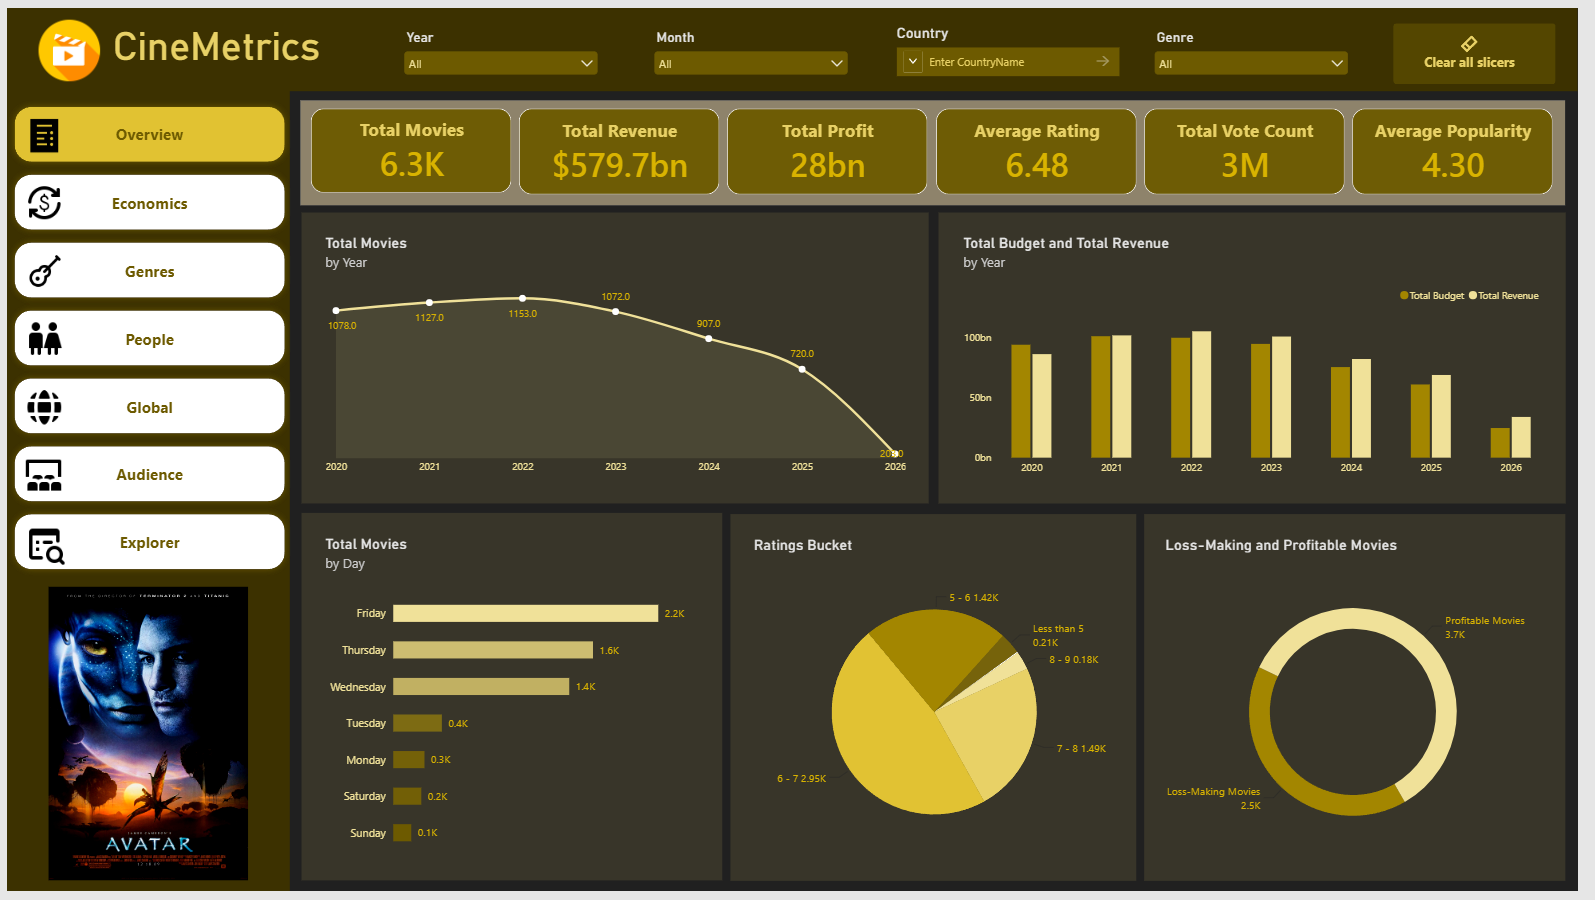

What the dashboard file says about the page in this screenshot:
{"tool":"powerbi","page":{"name":"Overview","canvas":[1920,1080],"ordinal":1},"visuals":[{"type":"group","id":"g1","title":"header","box":[0,0,1919.7,101.7],"z":0},{"type":"shape","box":[0,0,1919.7,101.7],"z":0,"group":"g1"},{"type":"shape","box":[0,101.3,346,978.8],"z":0,"group":"g2"},{"type":"shape","box":[359.3,112.6,1546,128.7],"z":0,"group":"g3"},{"type":"shape","box":[1138.5,250.2,766.8,355.7],"z":0,"group":"g8"},{"type":"shape","box":[359.4,250.4,766.6,355.6],"z":0,"group":"g7"},{"type":"shape","box":[359.4,617.5,514.2,449.2],"z":0,"group":"g6"},{"type":"shape","box":[884.3,618.4,496,448.6],"z":0,"group":"g5"},{"type":"shape","box":[1390.5,618.4,514.7,448.6],"z":0,"group":"g4"},{"type":"textbox","title":"CineMetrics","box":[130.3,19.1,274.9,62],"z":1000,"group":"g1"},{"type":"group","id":"g2","title":"side panel","box":[0,101.3,347.9,978.8],"z":1000},{"type":"pageNavigator","box":[1.9,112.8,346,585],"z":1000,"group":"g2"},{"type":"cardVisual","fields":{"Data":["measure_KPI.Total Movies"]},"box":[372.2,122.8,245.6,103.8],"z":1000,"group":"g3"},{"type":"clusteredColumnChart","fields":{"Category":["dim dim_date.Year"],"Y":["measure_KPI.Total Budget","measure_KPI.Total Revenue"]},"box":[1152.8,262.7,740,328.9],"z":1000,"group":"g8"},{"type":"lineChart","fields":{"Category":["dim dim_date.FullDate.Variation.Date Hierarchy.Year","dim dim_date.FullDate.Variation.Date Hierarchy.Quarter","dim dim_date.FullDate.Variation.Date Hierarchy.Month","dim dim_date.FullDate.Variation.Date Hierarchy.Day"],"Y":["measure_KPI.Total Movies"]},"box":[372.8,263.8,741.6,328.8],"z":1000,"group":"g7"},{"type":"barChart","fields":{"Category":["dim dim_date.DayName"],"Y":["measure_KPI.Total Movies"]},"box":[371.9,630,489.2,424.2],"z":1000,"group":"g6"},{"type":"pieChart","fields":{"Category":["fact fact_movie.Ratings Group (groups)"],"Y":["CountNonNull(fact fact_movie.Ratings Group (groups))"]},"box":[897.3,630.9,471.8,423.6],"z":1000,"group":"g5"},{"type":"donutChart","fields":{"Y":["measure_KPI.Loss-Making Movies","measure_KPI.Profitable Movies"]},"box":[1400.8,631.4,489.7,423.6],"z":1000,"group":"g4"},{"type":"image","box":[38.3,13.8,75,75],"z":2000,"group":"g1"},{"type":"group","id":"g3","title":"kpis","box":[359.3,112.6,1546,128.7],"z":2000},{"type":"cardVisual","fields":{"Data":["measure_KPI.Total Profit"]},"box":[881.3,122.8,245.9,105.3],"z":2000,"group":"g3"},{"type":"image","box":[11.5,707.3,323.1,359.4],"z":2000,"group":"g2"},{"type":"actionButton","box":[1693.7,19.1,198.8,74.6],"z":3000,"group":"g1"},{"type":"cardVisual","fields":{"Data":["measure_KPI.Average Popularity"]},"box":[1645.4,122.8,245.9,105.3],"z":3000,"group":"g3"},{"type":"group","id":"g4","title":"donut","box":[1390.5,618.4,514.7,448.6],"z":3000},{"type":"image","box":[15,629.2,60.1,50.1],"z":3000,"group":"g2"},{"type":"slicer","fields":{"Values":["dim dim_date.MonthName"]},"box":[1382,13.3,278.7,86.8],"z":4000,"group":"g1"},{"type":"cardVisual","fields":{"Data":["measure_KPI.Total Vote Count"]},"box":[1390.7,122.8,245.9,105.3],"z":4000,"group":"g3"},{"type":"image","box":[15,546,60.1,50.1],"z":4000,"group":"g2"},{"type":"group","id":"g5","title":"profit%","box":[884.3,618.4,496,448.6],"z":4000},{"type":"slicer","fields":{"Values":["dim dim_date.MonthName"]},"box":[1076,13.3,278.7,86.8],"z":5000,"group":"g1"},{"type":"cardVisual","fields":{"Data":["measure_KPI.Average Rating"]},"box":[1136,122.8,245.9,105.3],"z":5000,"group":"g3"},{"type":"image","box":[15,462.9,60.1,50.1],"z":5000,"group":"g2"},{"type":"group","id":"g6","title":"release by day","box":[359.4,617.5,514.2,449.2],"z":5000},{"type":"slicer","fields":{"Values":["dim dim_date.MonthName"]},"box":[770,13.3,278.7,86.8],"z":6000,"group":"g1"},{"type":"cardVisual","fields":{"Data":["measure_KPI.Total Revenue"]},"box":[626.7,122.8,245.9,105.3],"z":6000,"group":"g3"},{"type":"group","id":"g7","title":"movie by year","box":[359.4,250.4,766.6,355.6],"z":6000},{"type":"image","box":[15,379.7,60.1,50.1],"z":6000,"group":"g2"},{"type":"slicer","fields":{"Values":["dim dim_date.Year"]},"box":[464,13.3,278.7,86.8],"z":7000,"group":"g1"},{"type":"group","id":"g8","title":"budget revenue per year","box":[1138.5,250.2,766.8,355.7],"z":7000},{"type":"image","box":[15,296.5,60.1,50.1],"z":7000,"group":"g2"},{"type":"image","box":[15,213.3,60.1,50.1],"z":8000,"group":"g2"},{"type":"image","box":[15,130.2,60.1,50.1],"z":9000,"group":"g2"}]}

Visuals, with their boxes in screenshot pixels (x1, y1, x2, y2), scaled from the page's 1920x1080 canvas onto the 1595x900 screenshot:
"header" group: (left=0, top=0, right=1594, bottom=85)
shape: (left=0, top=0, right=1594, bottom=85)
shape: (left=0, top=84, right=287, bottom=899)
shape: (left=298, top=94, right=1583, bottom=201)
shape: (left=946, top=208, right=1583, bottom=505)
shape: (left=299, top=209, right=935, bottom=505)
shape: (left=299, top=515, right=726, bottom=889)
shape: (left=735, top=515, right=1147, bottom=889)
shape: (left=1155, top=515, right=1583, bottom=889)
"CineMetrics" textbox: (left=108, top=16, right=337, bottom=68)
"side panel" group: (left=0, top=84, right=289, bottom=899)
pageNavigator: (left=2, top=94, right=289, bottom=582)
cardVisual - measure_KPI.Total Movies: (left=309, top=102, right=513, bottom=189)
clusteredColumnChart - dim dim_date.Year x measure_KPI.Total Budget: (left=958, top=219, right=1572, bottom=493)
lineChart - dim dim_date.FullDate.Variation.Date Hierarchy.Year x dim dim_date.FullDate.Variation.Date Hierarchy.Quarter: (left=310, top=220, right=926, bottom=494)
barChart - dim dim_date.DayName x measure_KPI.Total Movies: (left=309, top=525, right=715, bottom=879)
pieChart - fact fact_movie.Ratings Group (groups) x CountNonNull(fact fact_movie.Ratings Group (groups)): (left=745, top=526, right=1137, bottom=879)
donutChart - measure_KPI.Loss-Making Movies x measure_KPI.Profitable Movies: (left=1164, top=526, right=1570, bottom=879)
image: (left=32, top=12, right=94, bottom=74)
"kpis" group: (left=298, top=94, right=1583, bottom=201)
cardVisual - measure_KPI.Total Profit: (left=732, top=102, right=936, bottom=190)
image: (left=10, top=589, right=278, bottom=889)
actionButton: (left=1407, top=16, right=1572, bottom=78)
cardVisual - measure_KPI.Average Popularity: (left=1367, top=102, right=1571, bottom=190)
"donut" group: (left=1155, top=515, right=1583, bottom=889)
image: (left=12, top=524, right=62, bottom=566)
slicer - dim dim_date.MonthName: (left=1148, top=11, right=1380, bottom=83)
cardVisual - measure_KPI.Total Vote Count: (left=1155, top=102, right=1360, bottom=190)
image: (left=12, top=455, right=62, bottom=497)
"profit%" group: (left=735, top=515, right=1147, bottom=889)
slicer - dim dim_date.MonthName: (left=894, top=11, right=1125, bottom=83)
cardVisual - measure_KPI.Average Rating: (left=944, top=102, right=1148, bottom=190)
image: (left=12, top=386, right=62, bottom=428)
"release by day" group: (left=299, top=515, right=726, bottom=889)
slicer - dim dim_date.MonthName: (left=640, top=11, right=871, bottom=83)
cardVisual - measure_KPI.Total Revenue: (left=521, top=102, right=725, bottom=190)
"movie by year" group: (left=299, top=209, right=935, bottom=505)
image: (left=12, top=316, right=62, bottom=358)
slicer - dim dim_date.Year: (left=385, top=11, right=617, bottom=83)
"budget revenue per year" group: (left=946, top=208, right=1583, bottom=505)
image: (left=12, top=247, right=62, bottom=289)
image: (left=12, top=178, right=62, bottom=220)
image: (left=12, top=108, right=62, bottom=150)
